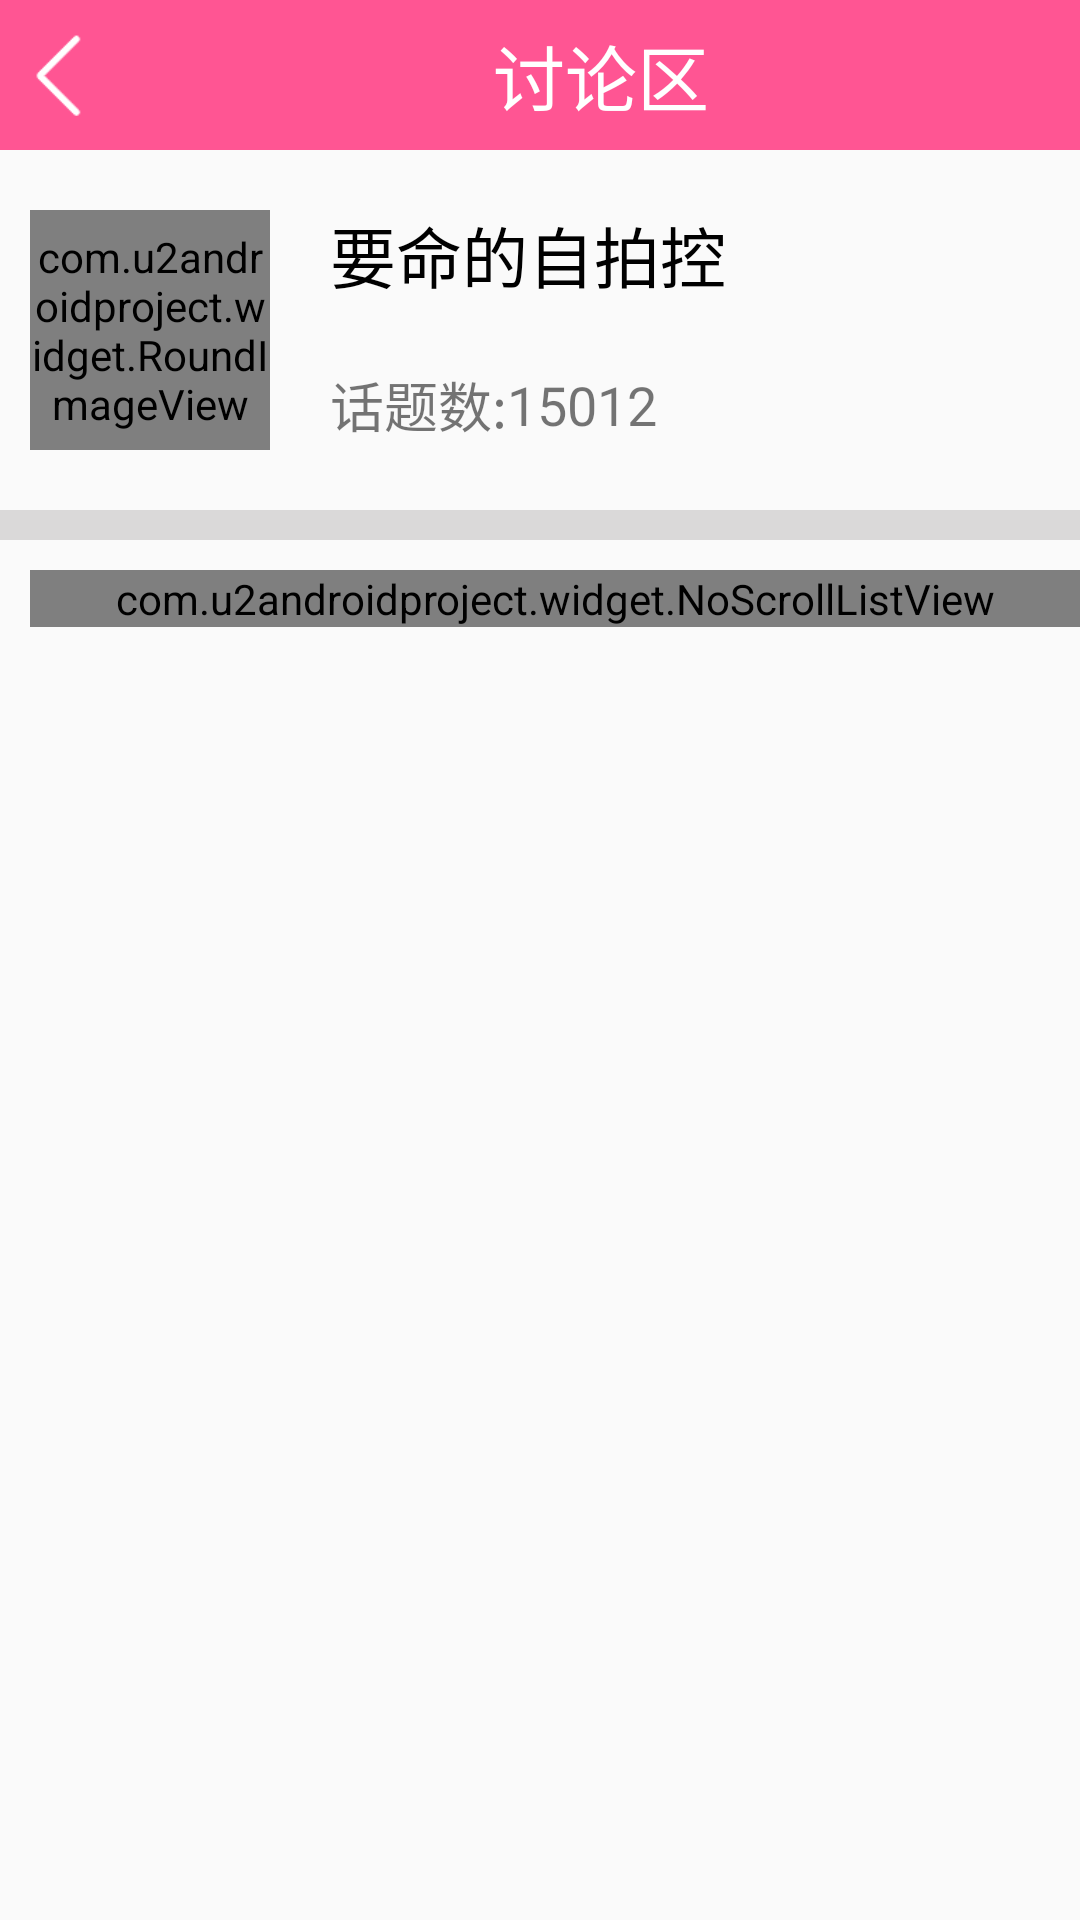

Screen size 1080×1920. Icon name, then its center in pixels as point (x, y):
back: point (58, 75)
